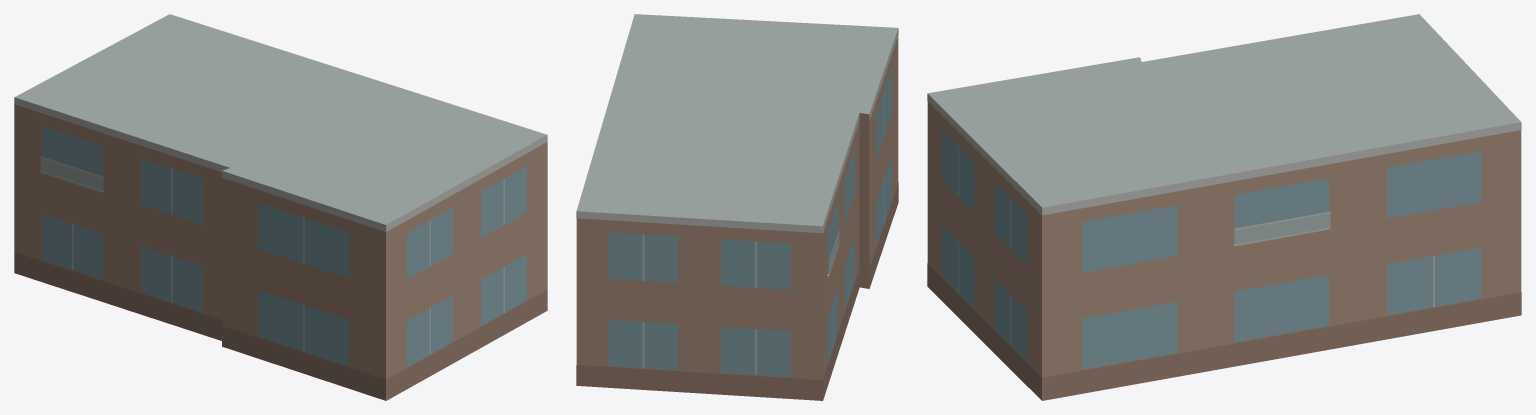
Rendered from survey-upis-32963538.glb.
3 views of the same model, side by side, from view 1: azimuth 30°, elevation 25°; view 2: azimuth 150°, elevation 25°; view 3: azimuth 270°, elevation 25° (orthographic). The views are drawn at different scales.
Visible parts, largest first — view 1: survey-upis-32963538.tmp; view 2: survey-upis-32963538.tmp; view 3: survey-upis-32963538.tmp.
Part boxes in pixels (left/top/right/bottom): survey-upis-32963538.tmp: left=14, top=14, right=547, bottom=400; survey-upis-32963538.tmp: left=576, top=14, right=898, bottom=400; survey-upis-32963538.tmp: left=927, top=14, right=1521, bottom=400.
Bounding box in the file's own units: 13.13 × 6.1 × 17.01.
